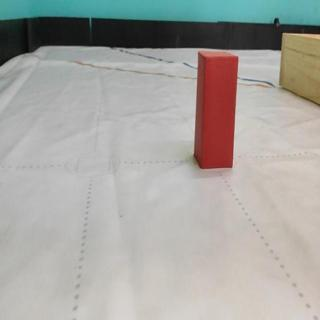redbox: (193, 49, 238, 169)
